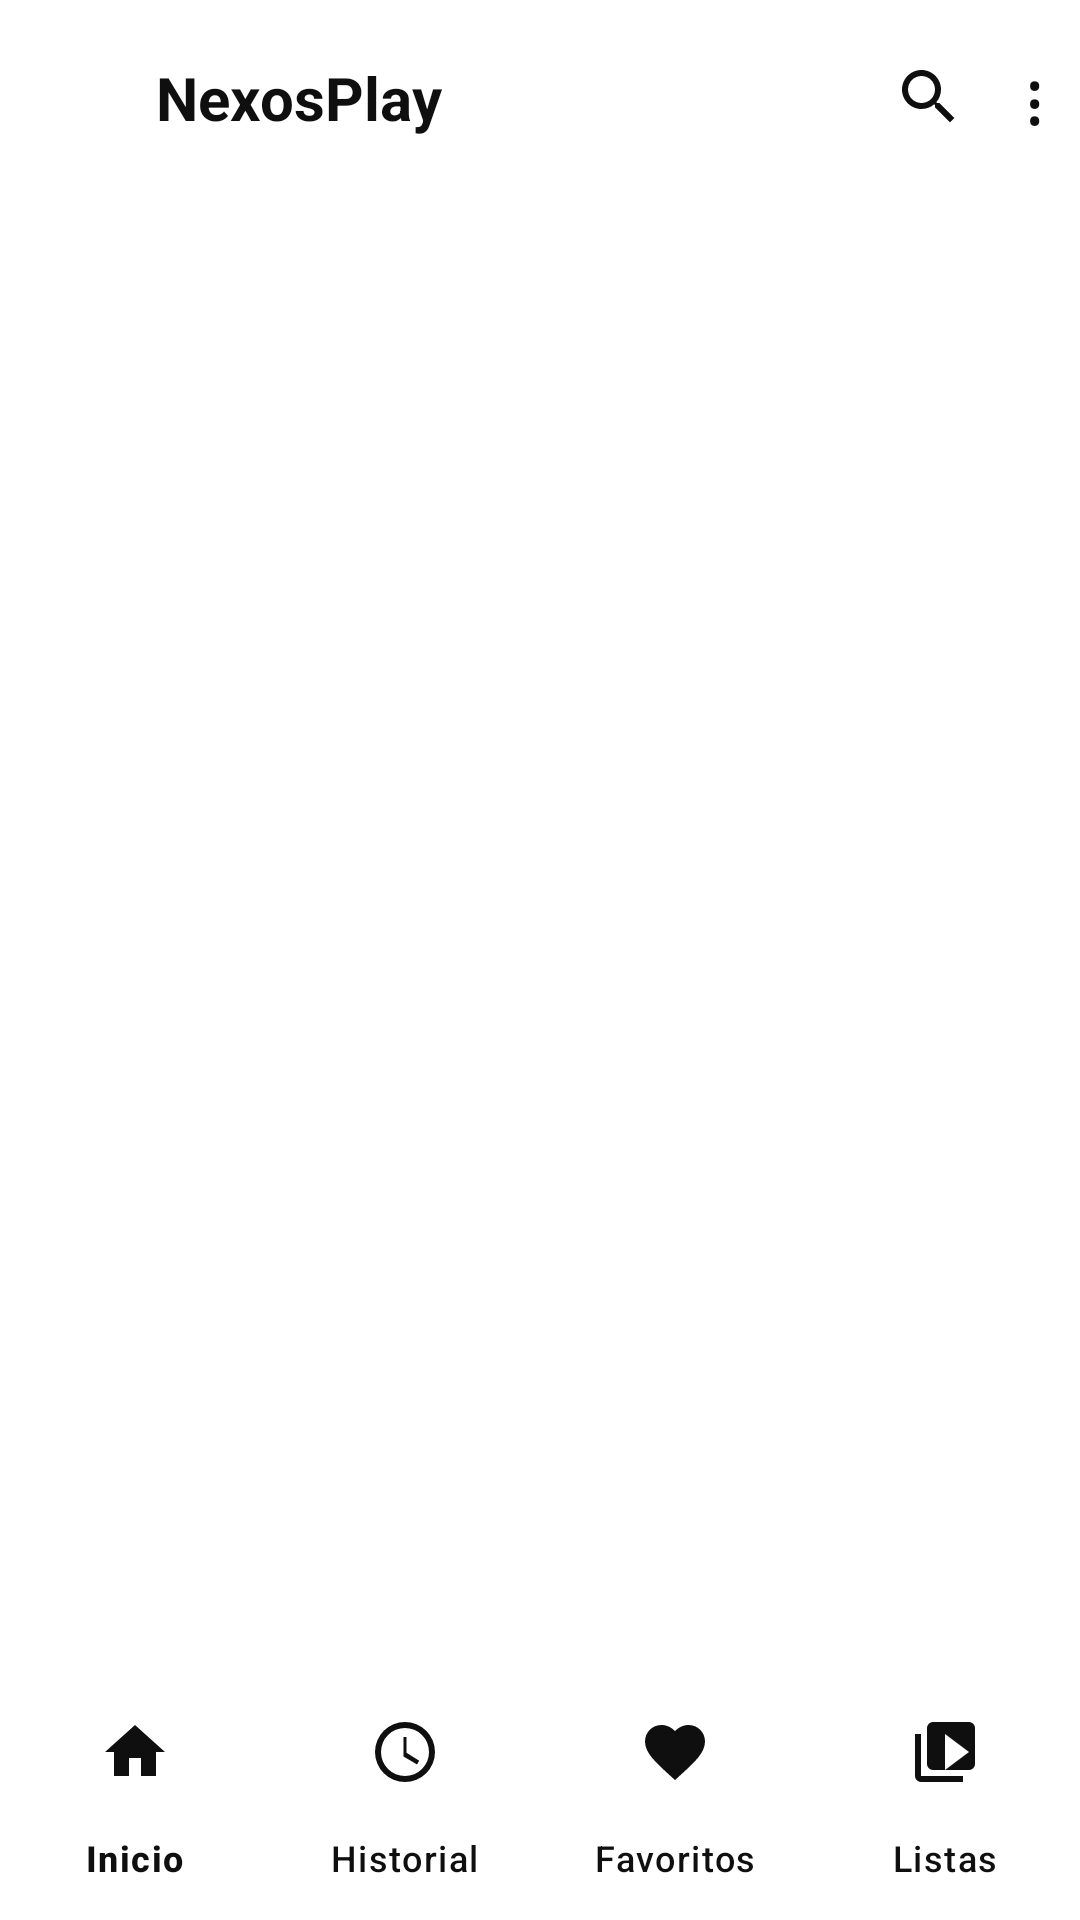

Named icons in this screenshot (1080px×1920px) and their centers, (x,y):
Buscar: (928,96)
